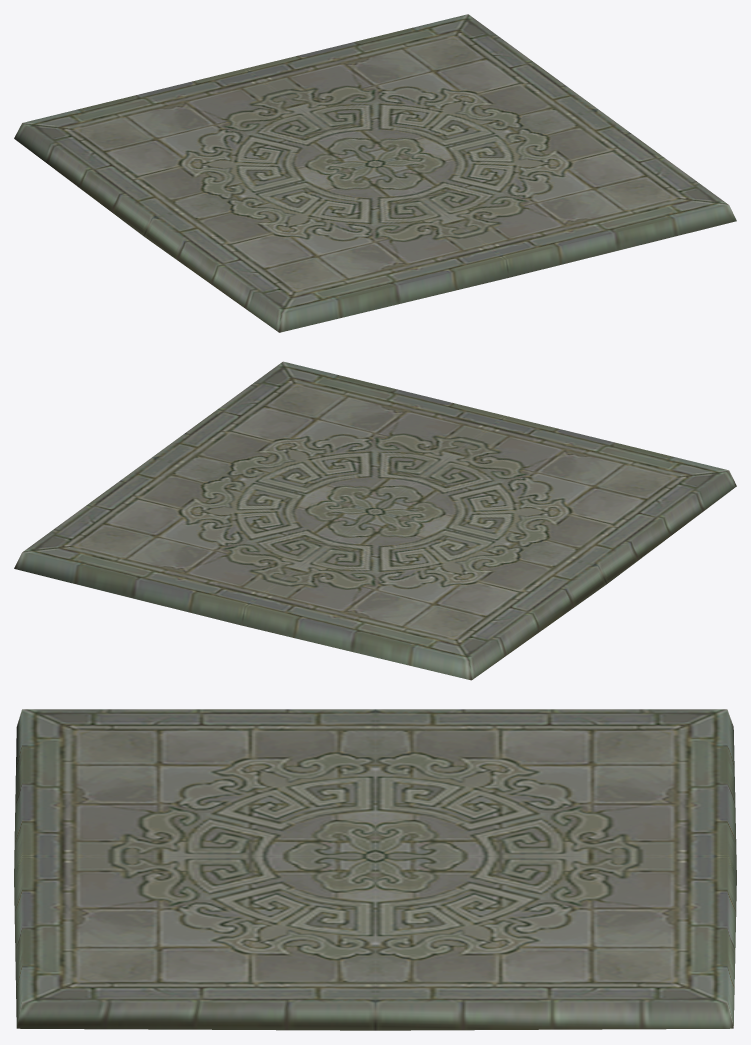
File: City_bujian_01_4.fbx
3 renders of one model, top to bottom at view 1: azimuth 30°, elevation 25°; view 2: azimuth 150°, elevation 25°; view 3: azimuth 270°, elevation 25°, orthographic. The views are drawn at different scales.
Parts seen in each view (by area): view 1: polySurface4019; view 2: polySurface4019; view 3: polySurface4019.
Part boxes in pixels (x1,y1,x2,y2): polySurface4019: [14, 14, 736, 332]; polySurface4019: [14, 361, 736, 680]; polySurface4019: [14, 709, 736, 1030].
Bounding box in the file's own units: 2.01 × 0.0662 × 2.01.
1 material, 1 textured.
